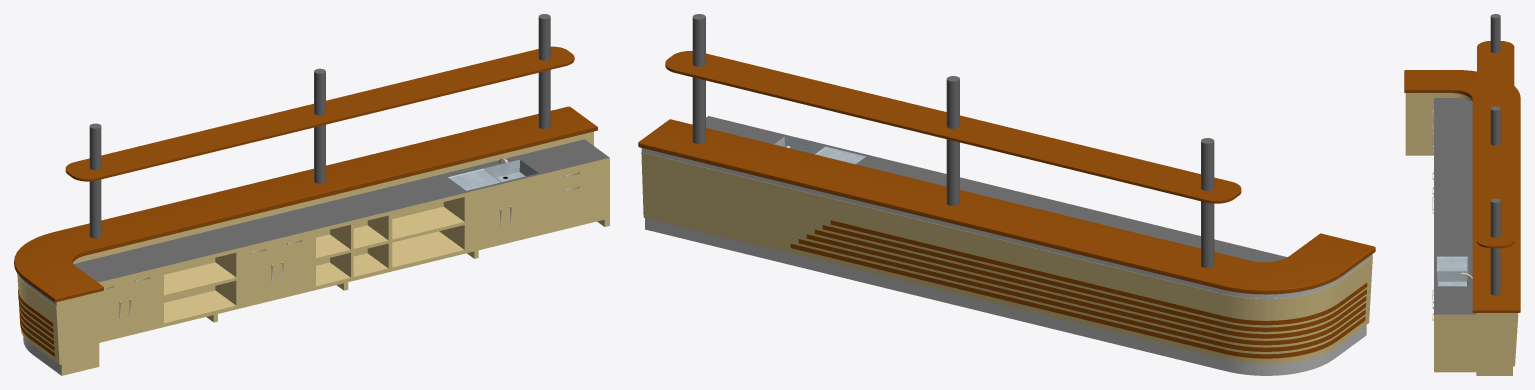
The model's file is mj_counter.dae.
The picture shows the model from 3 angles, left to right: view 1: azimuth 30°, elevation 25°; view 2: azimuth 150°, elevation 25°; view 3: azimuth 270°, elevation 25°; orthographic projection. The views are drawn at different scales.
Visible parts, largest first — view 1: Komponente_31 (×10), Komponente_32, Komponente_35, Komponente_36 (×3); view 2: Komponente_31 (×5), Komponente_32, Komponente_35, Komponente_36 (×3), Komponente_37, Komponente_38, Komponente_39, Komponente_40, Komponente_41, Komponente_42; view 3: Komponente_31 (×3), Komponente_35, Komponente_32, Komponente_36 (×3).
Part boxes in pixels (x1,y1,x2,y2): Komponente_31 (×10): (17,131,609,375); Komponente_32: (14,106,597,302); Komponente_35: (65,46,574,181); Komponente_36 (×3): (89,14,550,238); Komponente_31 (×5): (641,116,1372,375); Komponente_32: (638,119,1375,294); Komponente_35: (665,51,1241,203); Komponente_36 (×3): (692,14,1214,268); Komponente_37: (790,243,1365,358); Komponente_38: (798,239,1365,351); Komponente_39: (806,234,1365,345); Komponente_40: (814,229,1366,338); Komponente_41: (822,225,1366,331); Komponente_42: (830,220,1367,325); Komponente_31 (×3): (1405,93,1518,375); Komponente_35: (1477,41,1514,248); Komponente_32: (1404,70,1520,312); Komponente_36 (×3): (1490,14,1500,295).
Size of the model in its own units: 317 by 64.95 by 98.43.
